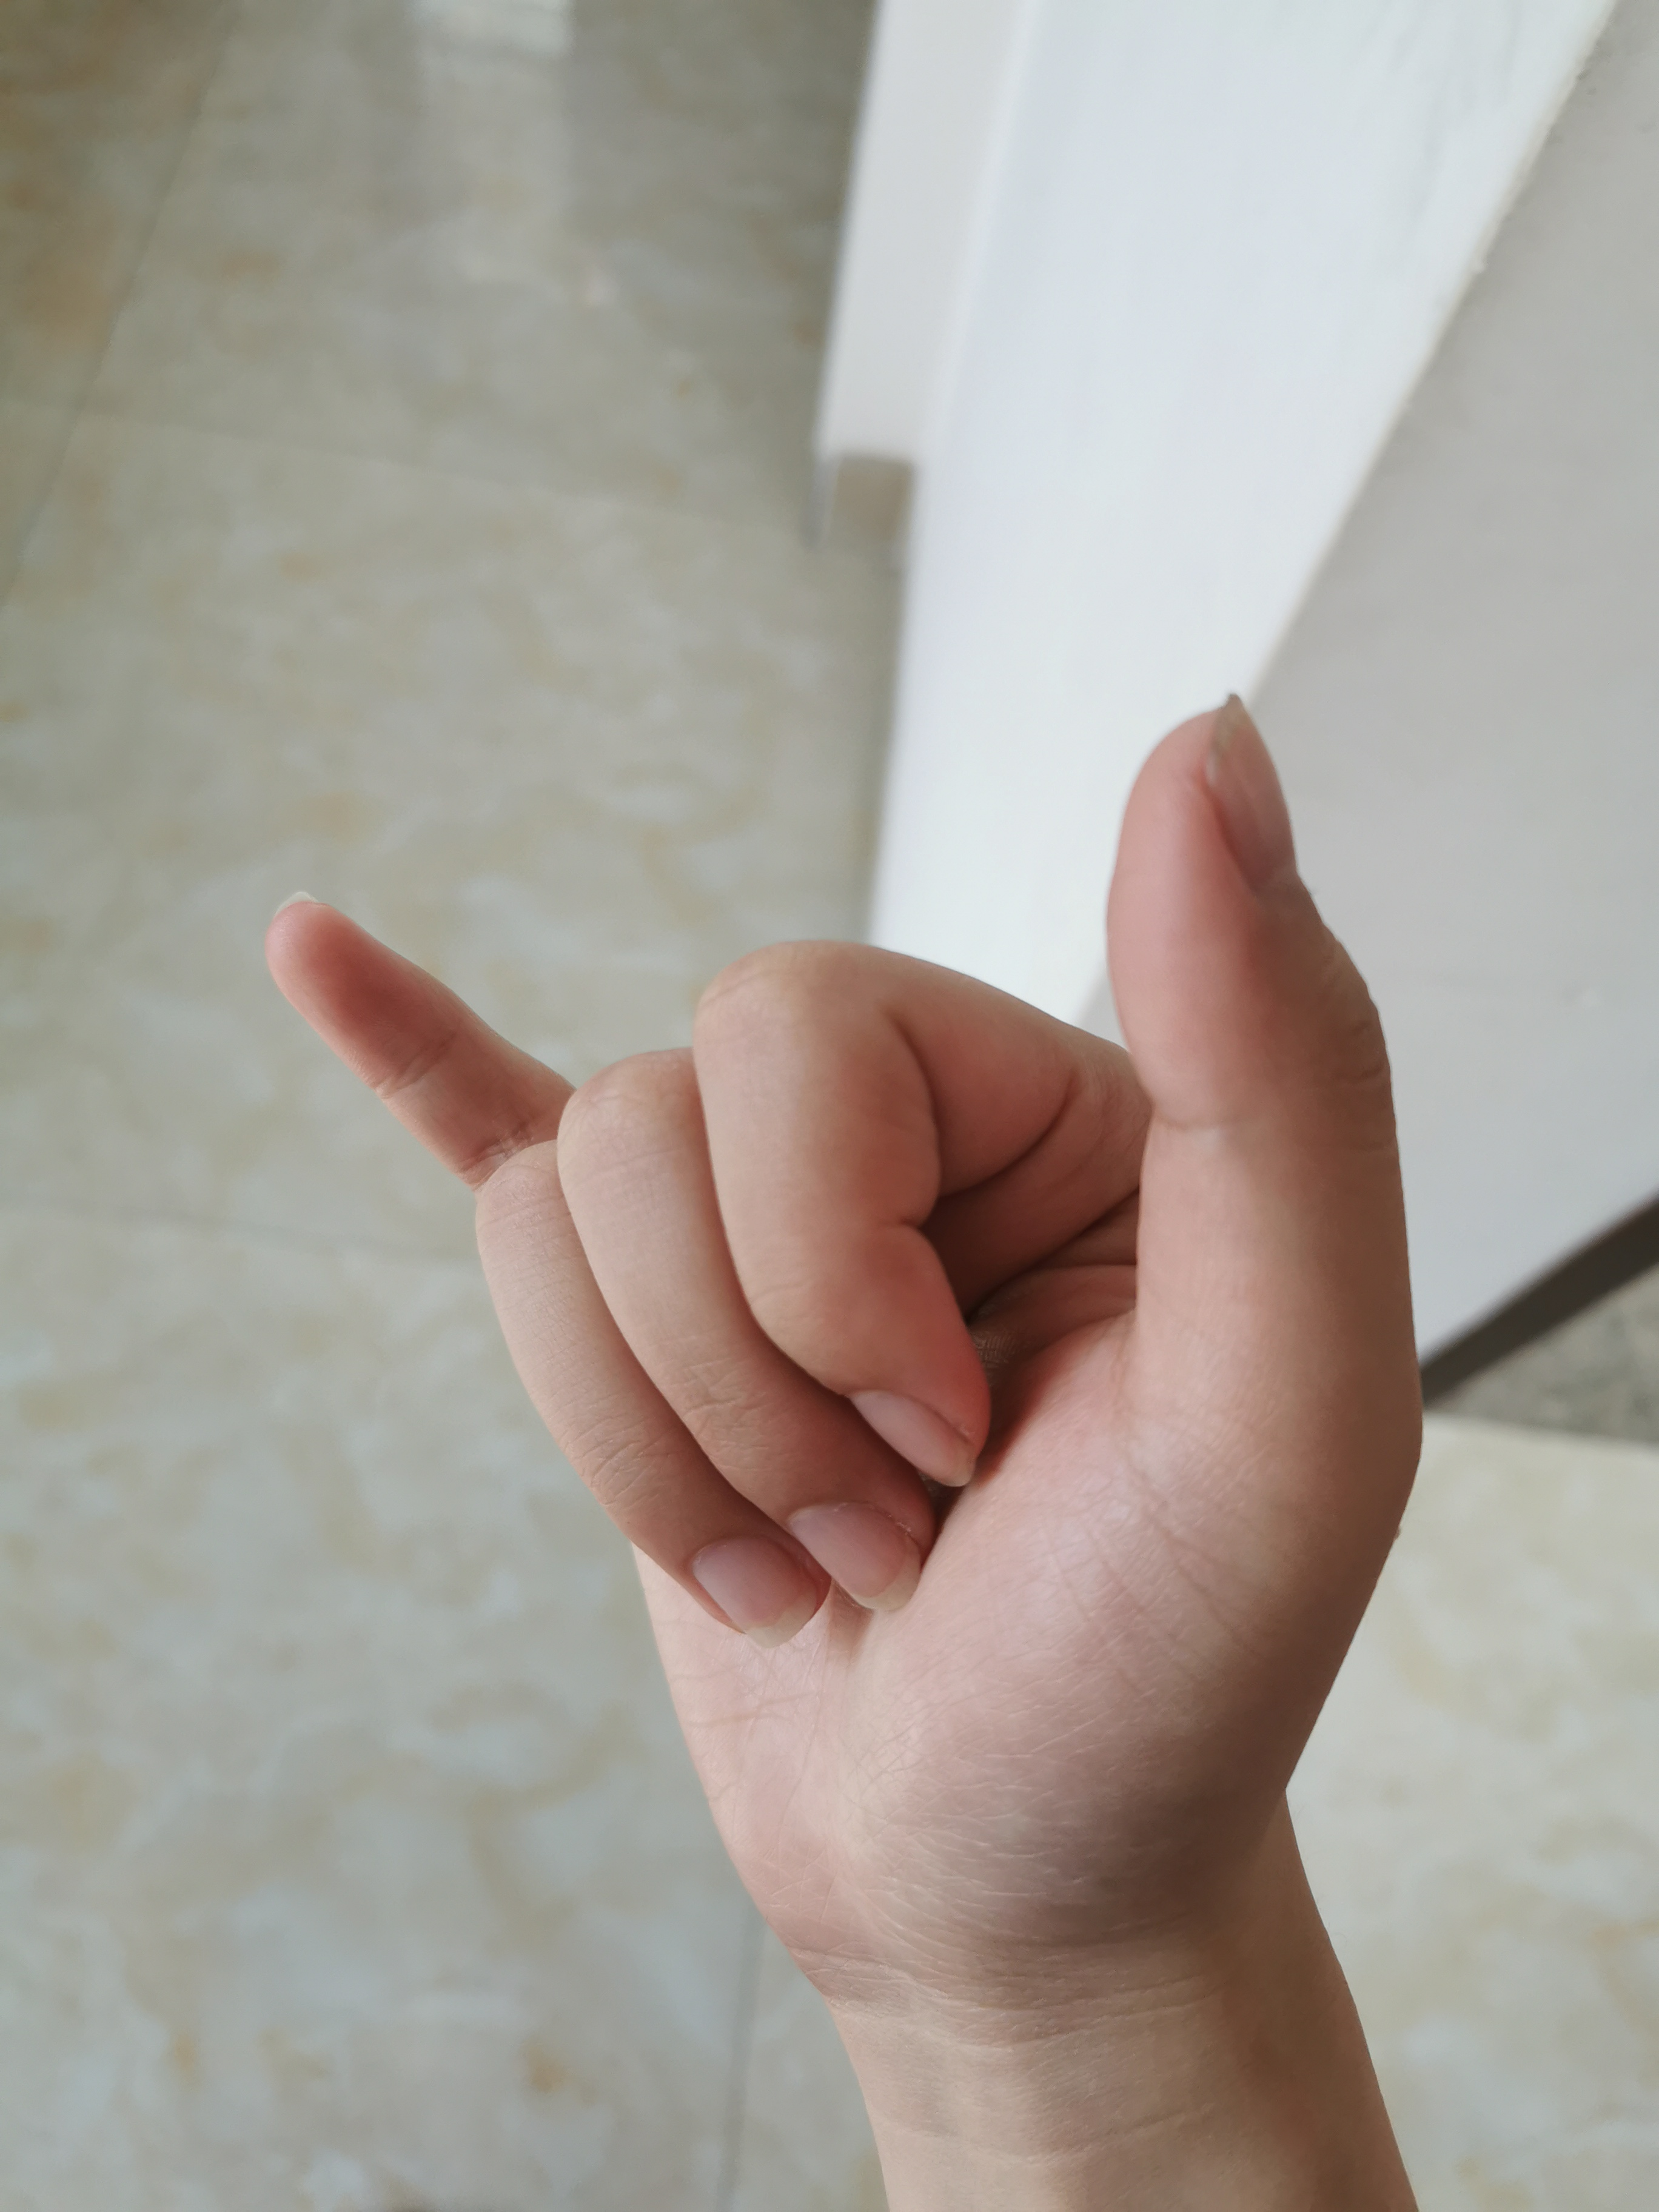clockwise: (251, 693, 1373, 1952)
